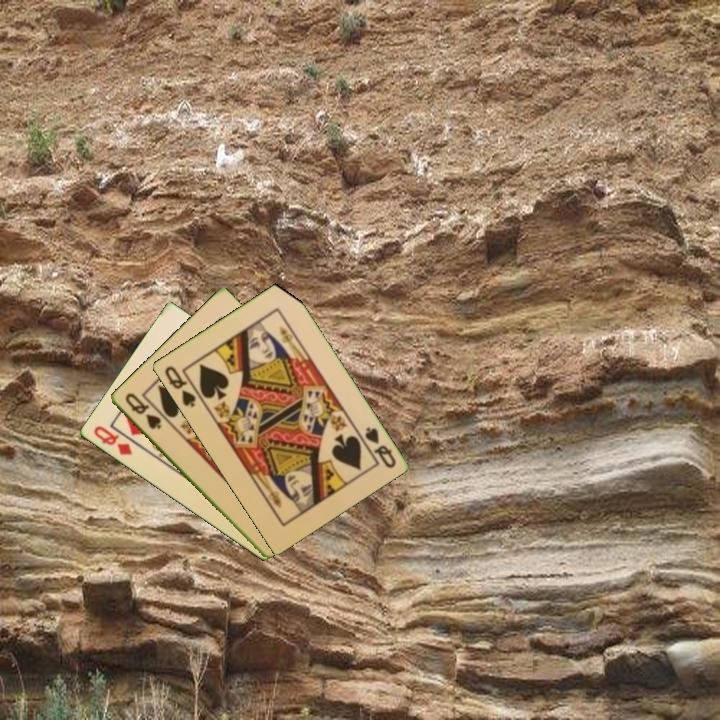Qd: (89, 422, 135, 458)
Qs: (121, 389, 164, 432), (361, 423, 399, 471), (161, 362, 198, 410)
